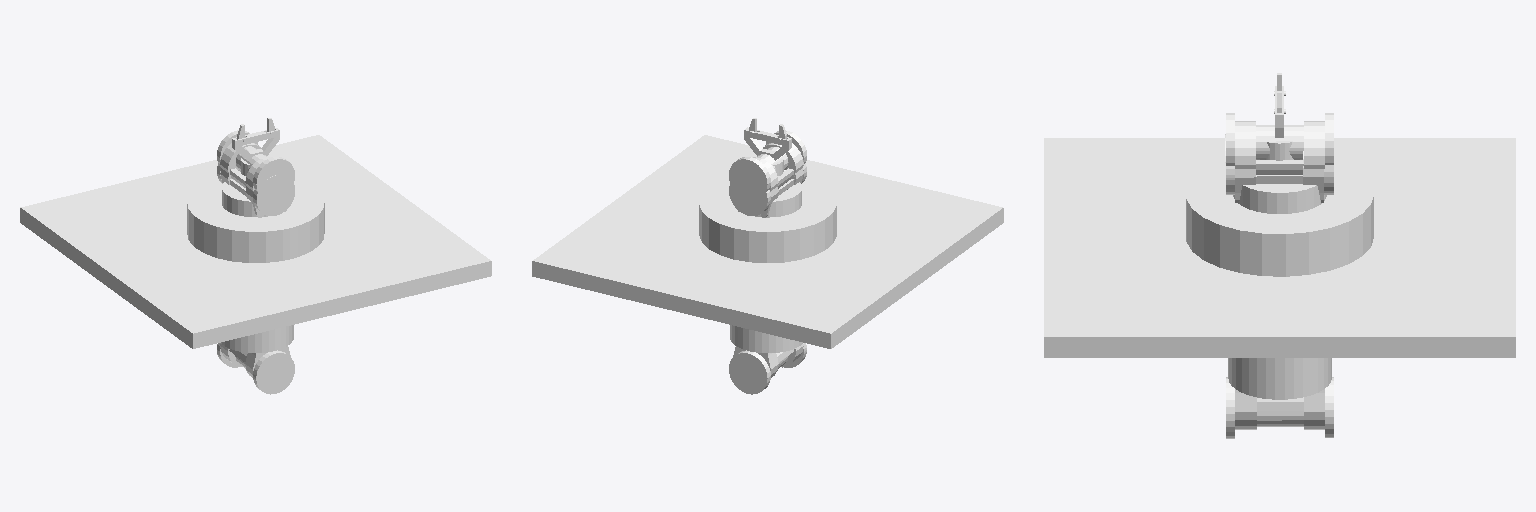
The robot description file, URDF, robot "robot_arm":
<?xml version="1.0" encoding="utf-8"?>
<!-- This URDF was automatically created by SolidWorks to URDF Exporter! Originally created by [author] ([email redacted]) 
     Commit Version: 1.6.0-1-g15f4949  Build Version: 1.6.7594.29634
     For more information, please see http://wiki.ros.org/sw_urdf_exporter -->
<robot
  name="robot_arm">

  <link name="world" />

  <link
    name="link1">
    <inertial>
      <origin
        xyz="-2.40249256666454E-17 2.31372309668347E-18 0.0377872136537855"
        rpy="0 0 0" />
      <mass
        value="61.2942137276504" />
      <inertia
        ixx="4.43601929007034"
        ixy="1.36432140292152E-34"
        ixz="-1.98607621195975E-17"
        iyy="4.43601929007034"
        iyz="2.63017918691454E-16"
        izz="8.73156973973922" />
    </inertial>
    <visual>
      <origin
        xyz="0 0 0"
        rpy="0 0 0" />
      <geometry>
        <mesh
          filename="package://robot_arm/meshes/link1.STL" />
      </geometry>
      <material
        name="">
        <color
          rgba="1 1 1 1" />
      </material>
    </visual>
    <collision>
      <origin
        xyz="0 0 0"
        rpy="0 0 0" />
      <geometry>
        <mesh
          filename="package://robot_arm/meshes/link1.STL" />
      </geometry>
    </collision>
  </link>

  <joint
    name="dummy_joint" type="fixed">
    <parent 
    link="world" />
    <child
    link="link1" />
  </joint> 

  <link
    name="link2">
    <inertial>
      <origin
        xyz="-4.35215650781507E-08 0.078485141091096 1.11026771309439E-07"
        rpy="0 0 0" />
      <mass
        value="0.737268633073559" />
      <inertia
        ixx="0.00902499302769591"
        ixy="8.68553880492339E-10"
        ixz="2.22317991155093E-10"
        iyy="0.00744275967559365"
        iyz="-3.346207450723E-09"
        izz="0.0076515703348216" />
    </inertial>
    <visual>
      <origin
        xyz="0 0 0"
        rpy="0 0 0" />
      <geometry>
        <mesh
          filename="package://robot_arm/meshes/link2.STL" />
      </geometry>
      <material
        name="">
        <color
          rgba="1 1 1 1" />
      </material>
    </visual>
    <collision>
      <origin
        xyz="0 0 0"
        rpy="0 0 0" />
      <geometry>
        <mesh
          filename="package://robot_arm/meshes/link2.STL" />
      </geometry>
    </collision>
  </link>
  <joint
    name="theta1"
    type="revolute">
    <origin
      xyz="0 0 0.085"
      rpy="1.5707963267949 0 0" />
    <parent
      link="link1" />
    <child
      link="link2" />
    <axis
      xyz="0 1 0" />
    <limit
      lower="0"
      upper="6.28"
      effort="50"
      velocity="100" />
  </joint>
  <link
    name="link3">
    <inertial>
      <origin
        xyz="1.5669967572918E-05 -0.304040443554538 1.26439609733212E-05"
        rpy="0 0 0" />
      <mass
        value="1.50038625923708" />
      <inertia
        ixx="0.052319481834011"
        ixy="1.64531036881196E-06"
        ixz="9.33503082022147E-07"
        iyy="0.00431963419819591"
        iyz="3.6487518522938E-06"
        izz="0.0530164409141027" />
    </inertial>
    <visual>
      <origin
        xyz="0 0 0"
        rpy="0 0 0" />
      <geometry>
        <mesh
          filename="package://robot_arm/meshes/link3.STL" />
      </geometry>
      <material
        name="">
        <color
          rgba="1 1 1 1" />
      </material>
    </visual>
    <collision>
      <origin
        xyz="0 0 0"
        rpy="0 0 0" />
      <geometry>
        <mesh
          filename="package://robot_arm/meshes/link3.STL" />
      </geometry>
    </collision>
  </link>
  <joint
    name="theta2"
    type="revolute">
    <origin
      xyz="0 0.175 0"
      rpy="0 -1.5707963267949 0" />
    <parent
      link="link2" />
    <child
      link="link3" />
    <axis
      xyz="1 0 0" />
    <limit
      lower="0"
      upper="6.28"
      effort="50"
      velocity="100" />
  </joint>
  <link
    name="link4">
    <inertial>
      <origin
        xyz="-4.51747276560345E-08 0.0850017270786476 1.09208076331341E-07"
        rpy="0 0 0" />
      <mass
        value="0.580635526432428" />
      <inertia
        ixx="0.00558115890727697"
        ixy="2.44052950747551E-10"
        ixz="1.8653224324632E-10"
        iyy="0.00457338067351513"
        iyz="-1.10378996232253E-09"
        izz="0.00420773867787236" />
    </inertial>
    <visual>
      <origin
        xyz="0 0 0"
        rpy="0 0 0" />
      <geometry>
        <mesh
          filename="package://robot_arm/meshes/link4.STL" />
      </geometry>
      <material
        name="">
        <color
          rgba="1 1 1 1" />
      </material>
    </visual>
    <collision>
      <origin
        xyz="0 0 0"
        rpy="0 0 0" />
      <geometry>
        <mesh
          filename="package://robot_arm/meshes/link4.STL" />
      </geometry>
    </collision>
  </link>
  <joint
    name="theta3"
    type="revolute">
    <origin
      xyz="0 -0.45 0"
      rpy="0 -1.5707963267949 3.14" />
    <parent
      link="link3" />
    <child
      link="link4" />
    <axis
      xyz="0 1 0" />
    <limit
      lower="0"
      upper="6.28"
      effort="50"
      velocity="100" />
  </joint>
  <link
    name="link5">
    <inertial>
      <origin
        xyz="-1.0078455658839E-05 -0.285046767851249 -6.67426817258954E-06"
        rpy="0 0 0" />
      <mass
        value="0.809676366607652" />
      <inertia
        ixx="0.0419576894032026"
        ixy="6.40817094606129E-07"
        ixz="-2.35798103181255E-07"
        iyy="0.00403574866352981"
        iyz="2.26766392675903E-07"
        izz="0.0434071334875582" />
    </inertial>
    <visual>
      <origin
        xyz="0 0 0"
        rpy="0 0 0" />
      <geometry>
        <mesh
          filename="package://robot_arm/meshes/link5.STL" />
      </geometry>
      <material
        name="">
        <color
          rgba="1 1 1 1" />
      </material>
    </visual>
    <collision>
      <origin
        xyz="0 0 0"
        rpy="0 0 0" />
      <geometry>
        <mesh
          filename="package://robot_arm/meshes/link5.STL" />
      </geometry>
    </collision>
  </link>
  <joint
    name="theta4"
    type="revolute">
    <origin
      xyz="0 0.15 0"
      rpy="0 -1.5707963267949 0" />
    <parent
      link="link4" />
    <child
      link="link5" />
    <axis
      xyz="1 0 0" />
    <limit
      lower="0"
      upper="6.28"
      effort="50"
      velocity="100" />
  </joint>
  <link
    name="link6">
    <inertial>
      <origin
        xyz="-2.35443707453134E-17 -0.0183941969382351 7.71464384058771E-07"
        rpy="0 0 0" />
      <mass
        value="0.245546177121655" />
      <inertia
        ixx="0.000607734736200731"
        ixy="3.46591932546715E-19"
        ixz="-7.81851278918393E-09"
        iyy="0.00189409564096144"
        iyz="-8.28876725575695E-09"
        izz="0.00197254885181598" />
    </inertial>
    <visual>
      <origin
        xyz="0 0 0"
        rpy="0 0 0" />
      <geometry>
        <mesh
          filename="package://robot_arm/meshes/link6.STL" />
      </geometry>
      <material
        name="">
        <color
          rgba="1 1 1 1" />
      </material>
    </visual>
    <collision>
      <origin
        xyz="0 0 0"
        rpy="0 0 0" />
      <geometry>
        <mesh
          filename="package://robot_arm/meshes/link6.STL" />
      </geometry>
    </collision>
  </link>
  <joint
    name="theta5"
    type="revolute">
    <origin
      xyz="0 -0.55 0"
      rpy="0 0 0" />
    <parent
      link="link5" />
    <child
      link="link6" />
    <axis
      xyz="1 0 0" />
    <limit
      lower="0"
      upper="0"
      effort="50"
      velocity="100" />
  </joint>
  <link
    name="gripper_base">
    <inertial>
      <origin
        xyz="3.96543347935535E-15 0.0562270701372454 -2.40815807774708E-05"
        rpy="0 0 0" />
      <mass
        value="0.0716560481058097" />
      <inertia
        ixx="8.58079461912336E-05"
        ixy="1.25446010309657E-20"
        ixz="-4.51808632086734E-21"
        iyy="0.000116159886704529"
        iyz="4.72349251842634E-08"
        izz="0.000188878643374606" />
    </inertial>
    <visual>
      <origin
        xyz="0 0 0"
        rpy="0 0 0" />
      <geometry>
        <mesh
          filename="package://robot_arm/meshes/gripper_base.STL" />
      </geometry>
      <material
        name="">
        <color
          rgba="1 1 1 1" />
      </material>
    </visual>
    <collision>
      <origin
        xyz="0 0 0"
        rpy="0 0 0" />
      <geometry>
        <mesh
          filename="package://robot_arm/meshes/gripper_base.STL" />
      </geometry>
    </collision>
  </link>
  <joint
    name="theta6"
    type="revolute">
    <origin
      xyz="0 -0.0600000000000001 0"
      rpy="0 -1.5707963267949 3.14" />
    <parent
      link="link6" />
    <child
      link="gripper_base" />
    <axis
      xyz="0 1 0" />
    <limit
      lower="0"
      upper="6.28"
      effort="30"
      velocity="1" />
  </joint>
  <link
    name="finger1">
    <inertial>
      <origin
        xyz="0.00330693559222194 0.0055384610597653 -3.99171079640944E-17"
        rpy="0 0 0" />
      <mass
        value="0.00565212855241566" />
      <inertia
        ixx="1.39106127614759E-06"
        ixy="6.83676597168532E-08"
        ixz="1.60958074122774E-23"
        iyy="3.3065635572341E-07"
        iyz="-6.36335466077704E-23"
        izz="1.44950431895636E-06" />
    </inertial>
    <visual>
      <origin
        xyz="0 0 0"
        rpy="0 0 0" />
      <geometry>
        <mesh
          filename="package://robot_arm/meshes/finger1.STL" />
      </geometry>
      <material
        name="">
        <color
          rgba="1 1 1 1" />
      </material>
    </visual>
    <collision>
      <origin
        xyz="0 0 0"
        rpy="0 0 0" />
      <geometry>
        <mesh
          filename="package://robot_arm/meshes/finger1.STL" />
      </geometry>
    </collision>
  </link>
  <joint
    name="grasp_angle1"
    type="revolute">
    <origin
      xyz="-0.0449999999999998 0.105 0"
      rpy="3.14159265358979 0 3.14159265358979" />
    <parent
      link="gripper_base" />
    <child
      link="finger1" />
    <axis
      xyz="0 0 1" />
    <limit
      lower="0"
      upper="0.6"
      effort="30"
      velocity="1" />
  </joint>
  <link
    name="finger2">
    <inertial>
      <origin
        xyz="0.00330693559222193 0.0055384610597653 4.30339663826916E-17"
        rpy="0 0 0" />
      <mass
        value="0.00565212855241566" />
      <inertia
        ixx="1.39106127614759E-06"
        ixy="6.83676597168533E-08"
        ixz="-1.93560521554188E-24"
        iyy="3.30656355723409E-07"
        iyz="2.90684300456426E-23"
        izz="1.44950431895636E-06" />
    </inertial>
    <visual>
      <origin
        xyz="0 0 0"
        rpy="0 0 0" />
      <geometry>
        <mesh
          filename="package://robot_arm/meshes/finger2.STL" />
      </geometry>
      <material
        name="">
        <color
          rgba="1 1 1 1" />
      </material>
    </visual>
    <collision>
      <origin
        xyz="0 0 0"
        rpy="0 0 0" />
      <geometry>
        <mesh
          filename="package://robot_arm/meshes/finger2.STL" />
      </geometry>
    </collision>
  </link>
  <joint
    name="grasp_angle2"
    type="revolute">
    <origin
      xyz="0.045 0.105 0"
      rpy="0 0 0" />
    <parent
      link="gripper_base" />
    <child
      link="finger2" />
    <axis
      xyz="0 0 1" />
    <limit
      lower="0"
      upper="0.6"
      effort="30"
      velocity="1" />
  </joint>

<transmission name="theta1_trans">
  <type>SimpleTransmission</type>
  <joint name="theta1">
    <hardwareInterface>hardware_interface/PositionJointInterface</hardwareInterface>
  </joint>
  <actuator name="steer_motor1">
    <mechanicalReduction>1</mechanicalReduction>
    <hardwareInterface>hardware_interface/PositionJointInterface</hardwareInterface>
  </actuator>
</transmission>

<transmission name="theta2_trans">
  <type>SimpleTransmission</type>
  <joint name="theta2">
    <hardwareInterface>hardware_interface/PositionJointInterface</hardwareInterface>
  </joint>
  <actuator name="steer_motor2">
    <mechanicalReduction>1</mechanicalReduction>
    <hardwareInterface>hardware_interface/PositionJointInterface</hardwareInterface>
  </actuator>
</transmission>

<transmission name="theta3_trans">
  <type>SimpleTransmission</type>
  <joint name="theta3">
    <hardwareInterface>hardware_interface/PositionJointInterface</hardwareInterface>
  </joint>
  <actuator name="steer_motor3">
    <mechanicalReduction>1</mechanicalReduction>
    <hardwareInterface>hardware_interface/PositionJointInterface</hardwareInterface>
  </actuator>
</transmission>

<transmission name="theta4_trans">
  <type>SimpleTransmission</type>
  <joint name="theta4">
    <hardwareInterface>hardware_interface/PositionJointInterface</hardwareInterface>
  </joint>
  <actuator name="steer_motor4">
    <mechanicalReduction>1</mechanicalReduction>
    <hardwareInterface>hardware_interface/PositionJointInterface</hardwareInterface>
  </actuator>
</transmission>

<transmission name="theta5_trans">
  <type>SimpleTransmission</type>
  <joint name="theta5">
    <hardwareInterface>hardware_interface/PositionJointInterface</hardwareInterface>
  </joint>
  <actuator name="steer_motor5">
    <mechanicalReduction>1</mechanicalReduction>
    <hardwareInterface>hardware_interface/PositionJointInterface</hardwareInterface>
  </actuator>
</transmission>

<transmission name="theta6_trans">
  <type>SimpleTransmission</type>
  <joint name="theta6">
    <hardwareInterface>hardware_interface/EffortJointInterface</hardwareInterface>
  </joint>
  <actuator name="steer_motor6">
    <mechanicalReduction>1</mechanicalReduction>
    <hardwareInterface>hardware_interface/EffortJointInterface</hardwareInterface>
  </actuator>
</transmission>

<transmission name="grasp_angle1_trans">
  <type>SimpleTransmission</type>
  <joint name="grasp_angle1">
    <hardwareInterface>hardware_interface/EffortJointInterface</hardwareInterface>
  </joint>
  <actuator name="steer_motor7">
    <mechanicalReduction>1</mechanicalReduction>
    <hardwareInterface>hardware_interface/EffortJointInterface</hardwareInterface>
  </actuator>
</transmission>

<transmission name="grasp_angle2_trans">
  <type>SimpleTransmission</type>
  <joint name="grasp_angle2">
    <hardwareInterface>hardware_interface/EffortJointInterface</hardwareInterface>
  </joint>
  <actuator name="steer_motor8">
    <mechanicalReduction>1</mechanicalReduction>
    <hardwareInterface>hardware_interface/EffortJointInterface</hardwareInterface>
  </actuator>
</transmission>


</robot>

--- What the picture shows (computed from the rendered views, not written in the file) ---
3 views of the same robot in one strip: view 1: azimuth 30°, elevation 25°; view 2: azimuth 150°, elevation 25°; view 3: azimuth 270°, elevation 25° (orthographic).
Model robot_arm with 10 links and 9 joints (8 revolute, 1 fixed), rooted at world, posed all joints at 0.
Links seen in each view (by area): view 1: link1, link4, link2, link6, link5, link3, gripper_base; view 2: link1, link4, link2, link5, link6, link3, gripper_base; view 3: link1, link4, link2, link5, link3, link6.
Link boxes in pixels (x1=…): link1: x1=20, y1=135, x2=491, y2=348; link4: x1=217, y1=325, x2=294, y2=394; link2: x1=217, y1=130, x2=294, y2=216; link6: x1=217, y1=155, x2=294, y2=215; link5: x1=220, y1=162, x2=290, y2=377; link3: x1=220, y1=143, x2=270, y2=192; gripper_base: x1=232, y1=128, x2=279, y2=160; link1: x1=532, y1=135, x2=1003, y2=348; link4: x1=729, y1=325, x2=806, y2=394; link2: x1=729, y1=131, x2=806, y2=217; link5: x1=733, y1=167, x2=803, y2=377; link6: x1=729, y1=155, x2=806, y2=215; link3: x1=753, y1=143, x2=803, y2=193; gripper_base: x1=744, y1=127, x2=791, y2=160; link1: x1=1044, y1=138, x2=1515, y2=357; link4: x1=1226, y1=358, x2=1333, y2=438; link2: x1=1226, y1=113, x2=1333, y2=213; link5: x1=1235, y1=151, x2=1324, y2=429; link3: x1=1235, y1=121, x2=1324, y2=184; link6: x1=1225, y1=134, x2=1333, y2=194.
Size in the robot's own frame: 1 by 1 by 0.8251 metres.
9 mesh visuals loaded from 9 distinct referenced files (9 binary STL).